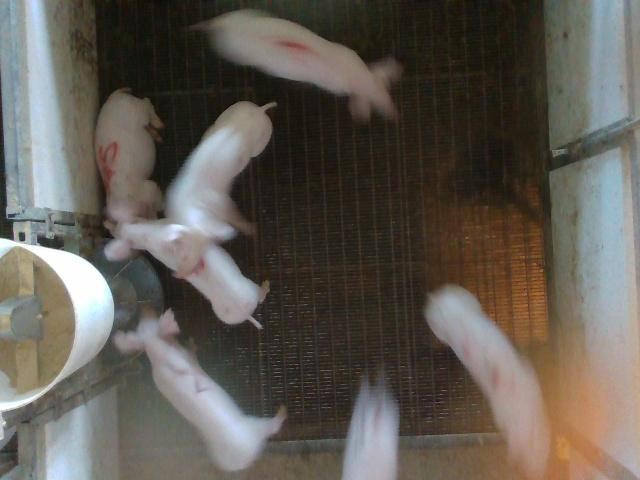pig-1: (192, 10, 402, 119)
pig-2: (114, 308, 286, 471)
pig-3: (425, 285, 550, 478)
pig-4: (185, 245, 270, 329), (104, 219, 178, 268)
pig-5: (95, 88, 164, 224)
